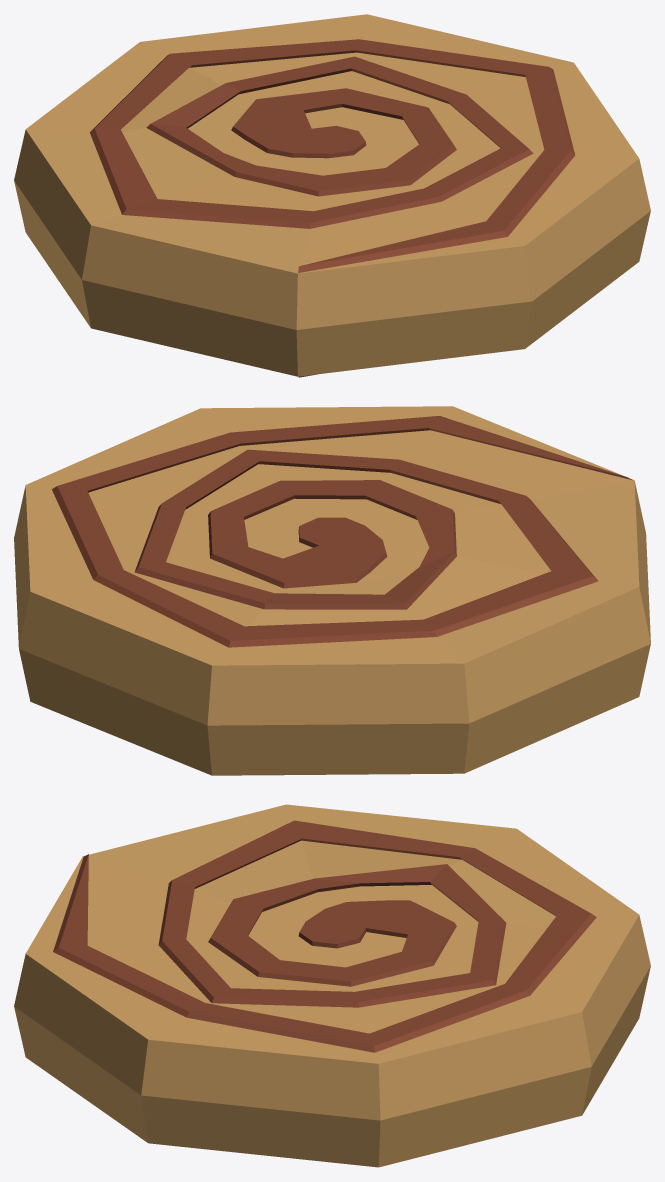
File: Food_Cinnerbun.fbx
The picture shows the model from 3 angles, top to bottom: view 1: azimuth 30°, elevation 25°; view 2: azimuth 150°, elevation 25°; view 3: azimuth 270°, elevation 25°; orthographic projection. The views are drawn at different scales.
Visible parts, largest first — view 1: Cylinder.031; view 2: Cylinder.031; view 3: Cylinder.031.
Boxes of the visible parts, bbox=[...] form: Cylinder.031: bbox=[14, 14, 650, 377]; Cylinder.031: bbox=[14, 406, 650, 775]; Cylinder.031: bbox=[14, 804, 650, 1167].
Size of the model in its own units: 21.64 by 4.55 by 21.64.
